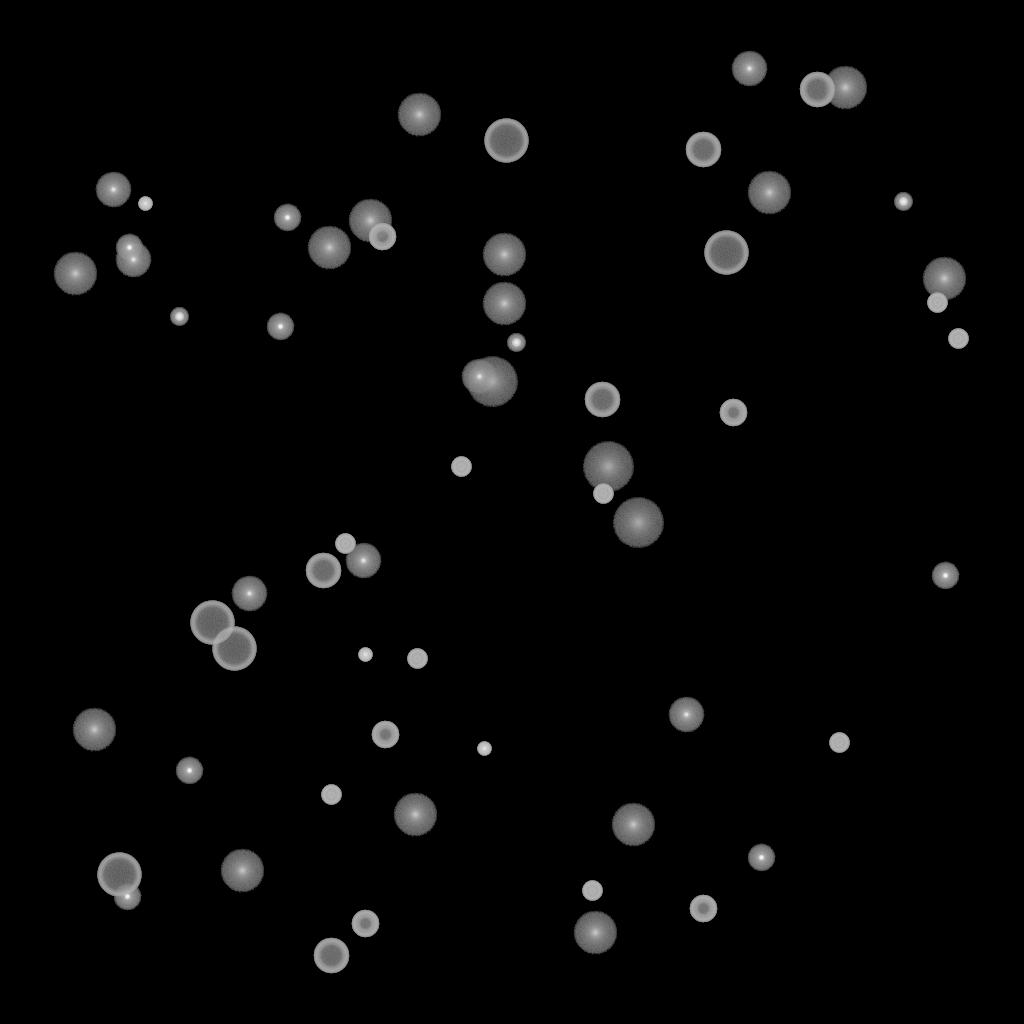depth:-10: (747, 844, 775, 872), (273, 204, 301, 232), (113, 883, 141, 911), (266, 313, 294, 341), (175, 757, 203, 785), (115, 234, 143, 262), (931, 562, 959, 590)
depth:-20: (507, 334, 525, 352), (894, 193, 912, 211), (170, 308, 188, 326)
depth:-30: (138, 197, 152, 211), (477, 742, 491, 756), (358, 648, 372, 662)
depth:-40: (407, 649, 427, 669), (335, 534, 355, 554), (593, 484, 613, 504), (927, 293, 947, 313), (829, 733, 849, 753), (948, 329, 968, 349), (321, 785, 341, 805), (451, 457, 471, 477), (582, 881, 602, 901)
depth:-50: (719, 399, 747, 427), (689, 895, 717, 923), (351, 910, 379, 938), (368, 223, 396, 251), (371, 721, 399, 749)
depth:-60: (799, 72, 835, 108), (685, 132, 721, 168), (584, 382, 620, 418), (305, 553, 341, 589), (313, 938, 349, 974)
depth:-70: (190, 601, 234, 645), (97, 853, 141, 897), (212, 627, 256, 671), (704, 231, 748, 275), (484, 119, 528, 163)
depth:0: (231, 576, 267, 612), (461, 359, 497, 395), (668, 697, 704, 733), (345, 543, 381, 579), (115, 242, 151, 278), (95, 172, 131, 208), (731, 51, 767, 87)
depth:10: (72, 708, 116, 752), (611, 803, 655, 847), (397, 93, 441, 137), (747, 171, 791, 215), (348, 199, 392, 243), (573, 911, 617, 955), (393, 793, 437, 837), (922, 257, 966, 301), (482, 233, 526, 277), (307, 226, 351, 270), (823, 66, 867, 110), (482, 282, 526, 326), (53, 252, 97, 296), (220, 849, 264, 893)
depth:20: (582, 442, 634, 492), (612, 498, 664, 548), (466, 357, 518, 407)
